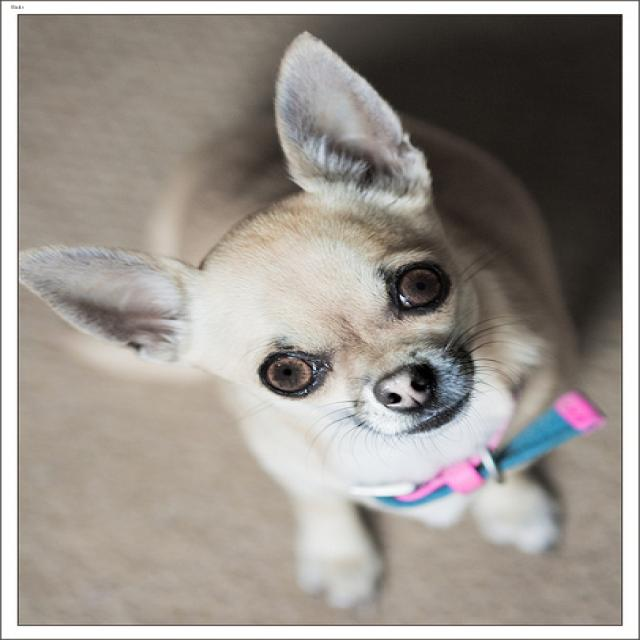dog-chihuahua: (2, 20, 591, 616)
